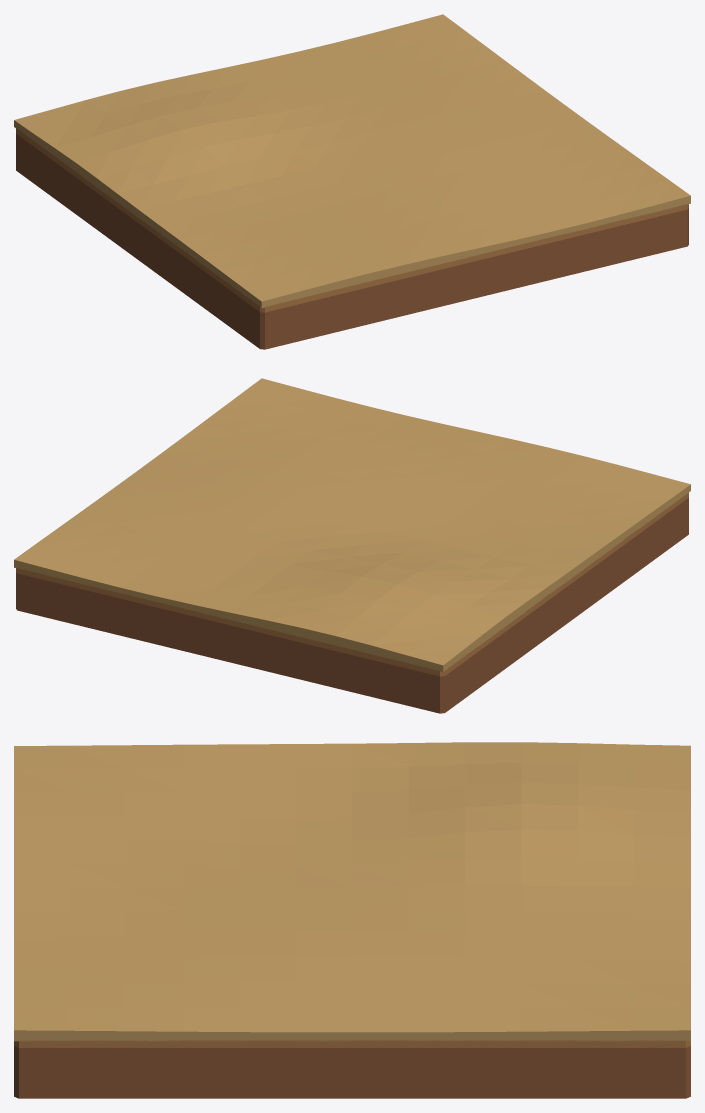
3 views of the same model, one above another, from view 1: azimuth 30°, elevation 25°; view 2: azimuth 150°, elevation 25°; view 3: azimuth 270°, elevation 25° (orthographic). The views are drawn at different scales.
Visible parts, largest first — view 1: B07_沙地缓丘; view 2: B07_沙地缓丘; view 3: B07_沙地缓丘.
Part boxes in pixels (x1,y1,x2,y2): B07_沙地缓丘: (14,14,690,349); B07_沙地缓丘: (14,378,690,713); B07_沙地缓丘: (14,742,690,1098).
Size of the model in its own units: 8 by 1.05 by 8.
